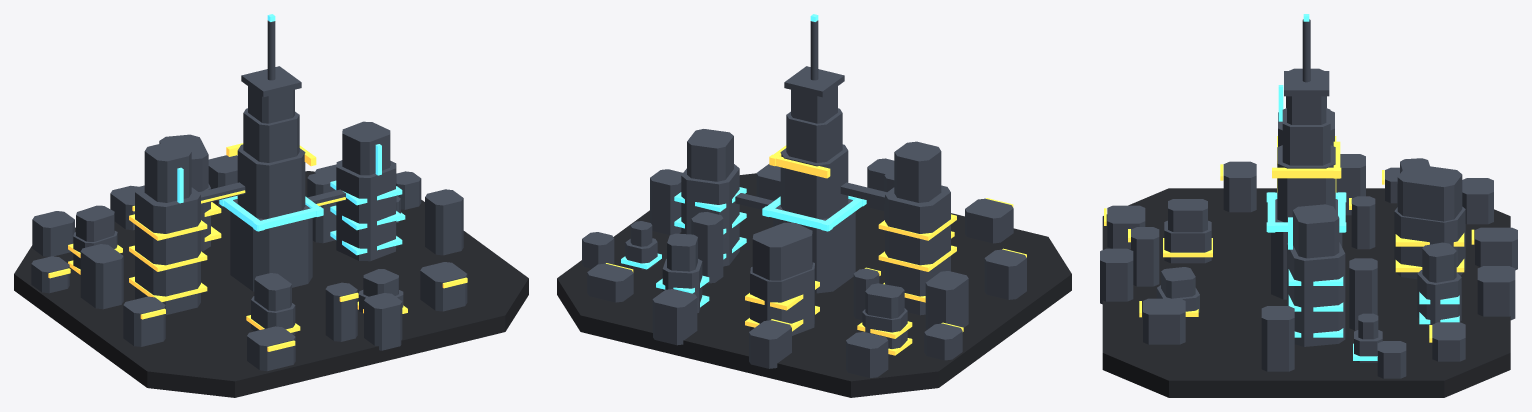
The model's file is city.glb.
The picture shows the model from 3 angles, left to right: view 1: azimuth 30°, elevation 25°; view 2: azimuth 150°, elevation 25°; view 3: azimuth 270°, elevation 25°; orthographic projection. The views are drawn at different scales.
Parts seen in each view (by area): view 1: pad, t2_0, t1_0, t3_0, t1_1, sp1, t2_1, sp5, t1_2, t3_1, sp3, sp4 (+24 smaller); view 2: pad, t2_0, t1_1, t4_1, t4_0, t3_0, t1_0, t2_1, t1_2, sp1, t3_1, sp7 (+27 smaller); view 3: pad, t3_0, t4_1, t4_0, t1_1, t3_1, sp5, t1_2, sp4, sp7, sp3, sp13 (+23 smaller).
Boxes of the visible parts, x1=… form: pad: x1=14, y1=171, x2=528, y2=397; t2_0: x1=135, y1=185, x2=200, y2=314; t1_0: x1=230, y1=199, x2=312, y2=291; t3_0: x1=336, y1=160, x2=396, y2=261; t1_1: x1=237, y1=144, x2=305, y2=219; sp1: x1=80, y1=244, x2=123, y2=309; t2_1: x1=144, y1=141, x2=191, y2=202; sp5: x1=425, y1=189, x2=463, y2=255; t1_2: x1=243, y1=108, x2=299, y2=162; t3_1: x1=342, y1=121, x2=390, y2=175; sp3: x1=364, y1=293, x2=402, y2=350; sp4: x1=420, y1=262, x2=467, y2=311; pad: x1=557, y1=173, x2=1071, y2=397; t2_0: x1=885, y1=185, x2=950, y2=315; t1_1: x1=780, y1=144, x2=848, y2=219; t4_1: x1=752, y1=222, x2=812, y2=280; t4_0: x1=750, y1=262, x2=814, y2=335; t3_0: x1=681, y1=164, x2=739, y2=266; t1_0: x1=773, y1=199, x2=855, y2=293; t2_1: x1=894, y1=141, x2=941, y2=202; t1_2: x1=786, y1=108, x2=842, y2=162; sp1: x1=925, y1=271, x2=968, y2=329; t3_1: x1=687, y1=129, x2=733, y2=181; sp7: x1=652, y1=289, x2=697, y2=345; pad: x1=1102, y1=188, x2=1510, y2=397; t3_0: x1=1287, y1=242, x2=1345, y2=346; t4_1: x1=1397, y1=164, x2=1462, y2=221; t4_0: x1=1394, y1=206, x2=1465, y2=278; t1_1: x1=1277, y1=145, x2=1335, y2=222; t3_1: x1=1292, y1=204, x2=1339, y2=258; sp5: x1=1261, y1=306, x2=1294, y2=371; t1_2: x1=1282, y1=108, x2=1330, y2=165; sp4: x1=1143, y1=298, x2=1185, y2=344; sp7: x1=1477, y1=266, x2=1515, y2=320; sp3: x1=1100, y1=248, x2=1133, y2=304; sp13: x1=1349, y1=258, x2=1377, y2=330.
Size of the model in its own units: 0.096 by 0.0666 by 0.088.
